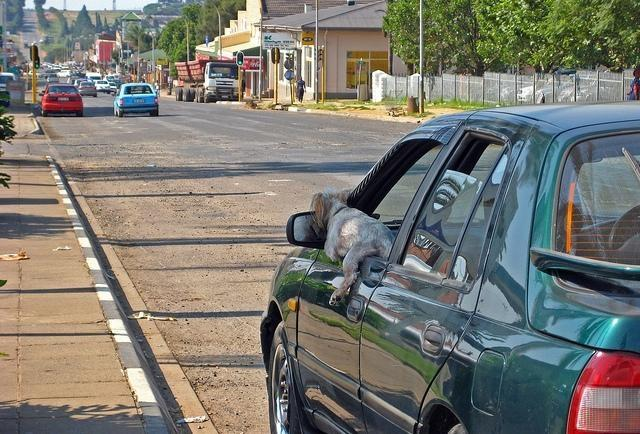car: (258, 100, 640, 428), (114, 83, 160, 117), (41, 82, 84, 117), (77, 81, 97, 99), (0, 72, 17, 91), (94, 80, 109, 94), (73, 78, 94, 88), (46, 73, 59, 83), (57, 70, 73, 78)
truck: (172, 59, 238, 105), (86, 72, 102, 82)
